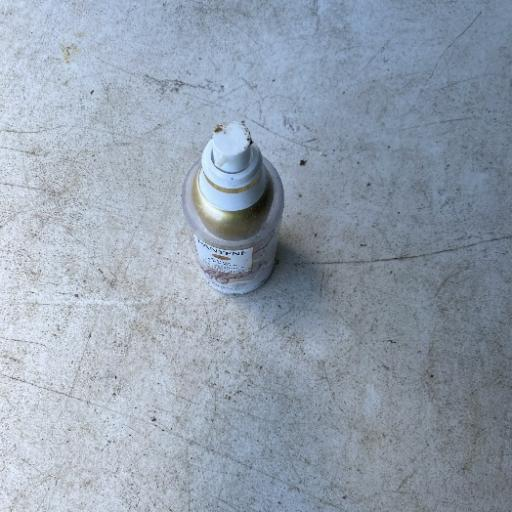Metal: (179, 119, 286, 296)
